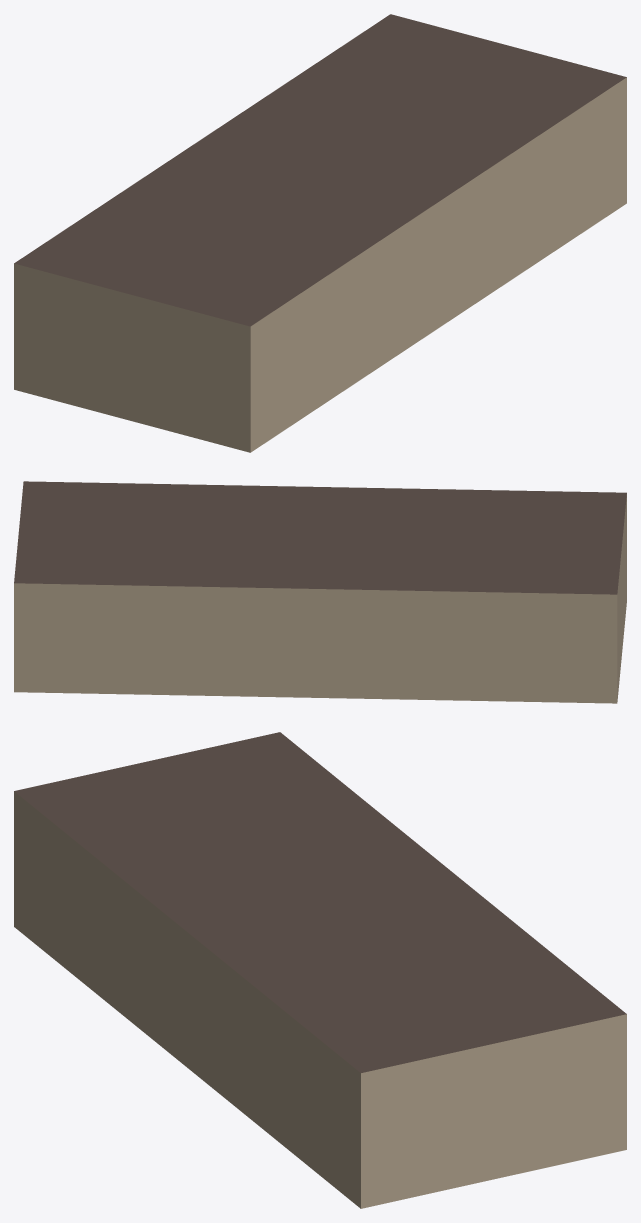
3 views of the same model, one above another, from view 1: azimuth 30°, elevation 25°; view 2: azimuth 150°, elevation 25°; view 3: azimuth 270°, elevation 25° (orthographic). The views are drawn at different scales.
Parts seen in each view (by area): view 1: HP-w859088527; view 2: HP-w859088527; view 3: HP-w859088527.
Boxes of the visible parts, <box> form: HP-w859088527: <box>14,14,626,452</box>; HP-w859088527: <box>14,481,626,703</box>; HP-w859088527: <box>14,732,626,1208</box>.
Size of the model in its own units: 48.53 by 9 by 36.84.
